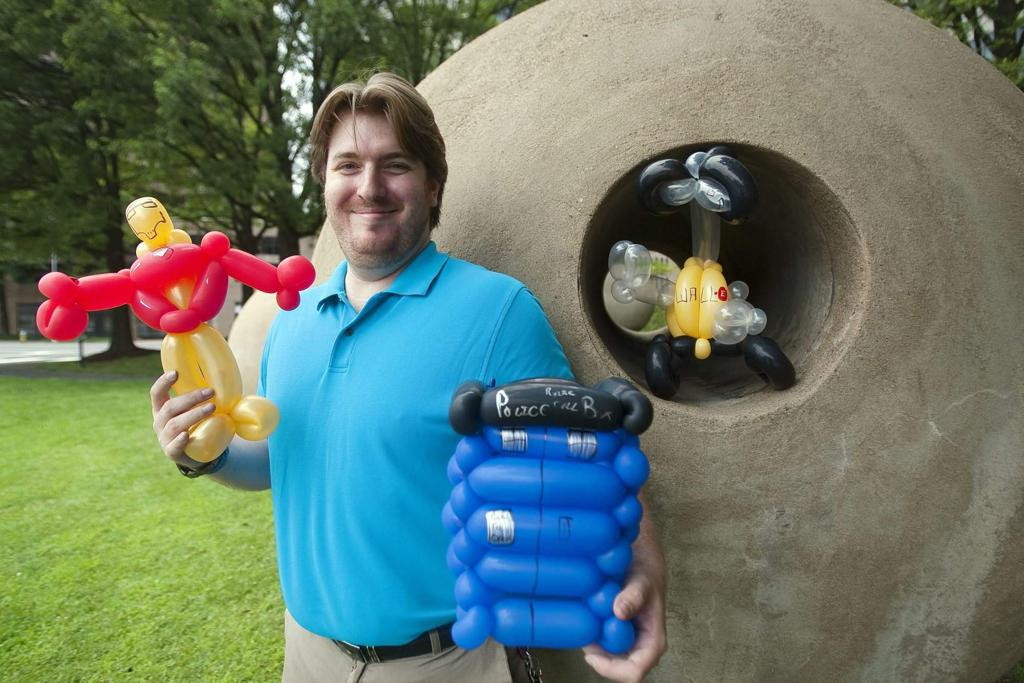face: (324, 116, 426, 256)
